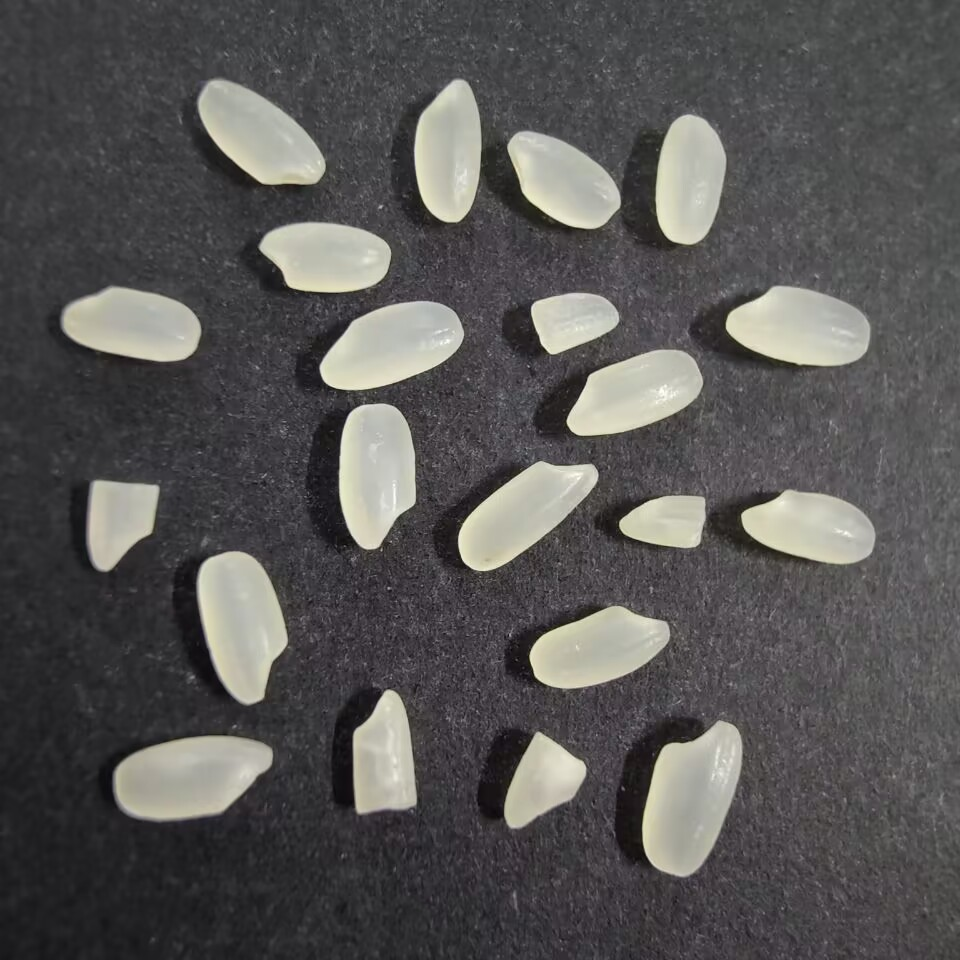broken: (499, 726, 589, 833), (345, 687, 417, 820), (81, 475, 161, 579), (526, 291, 621, 357), (616, 489, 711, 552)
rice: (457, 456, 603, 574), (638, 717, 745, 878), (109, 732, 278, 825), (192, 76, 329, 190), (195, 549, 290, 710), (316, 297, 466, 393), (720, 282, 875, 368), (563, 346, 705, 439), (333, 401, 419, 553), (529, 602, 675, 689), (504, 128, 623, 232), (56, 282, 202, 366), (734, 485, 877, 567), (410, 73, 484, 226), (256, 219, 393, 296), (656, 111, 727, 245)
